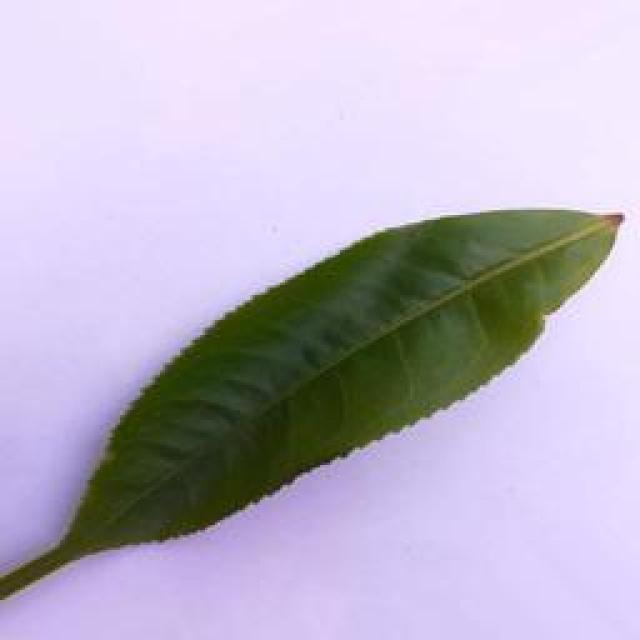Healthy: (60, 216, 637, 550)
